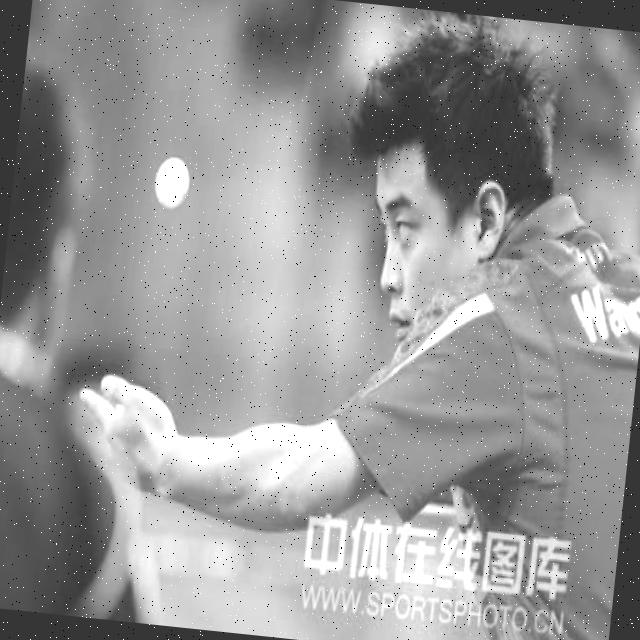ping-pong-ball: (152, 156, 193, 211)
